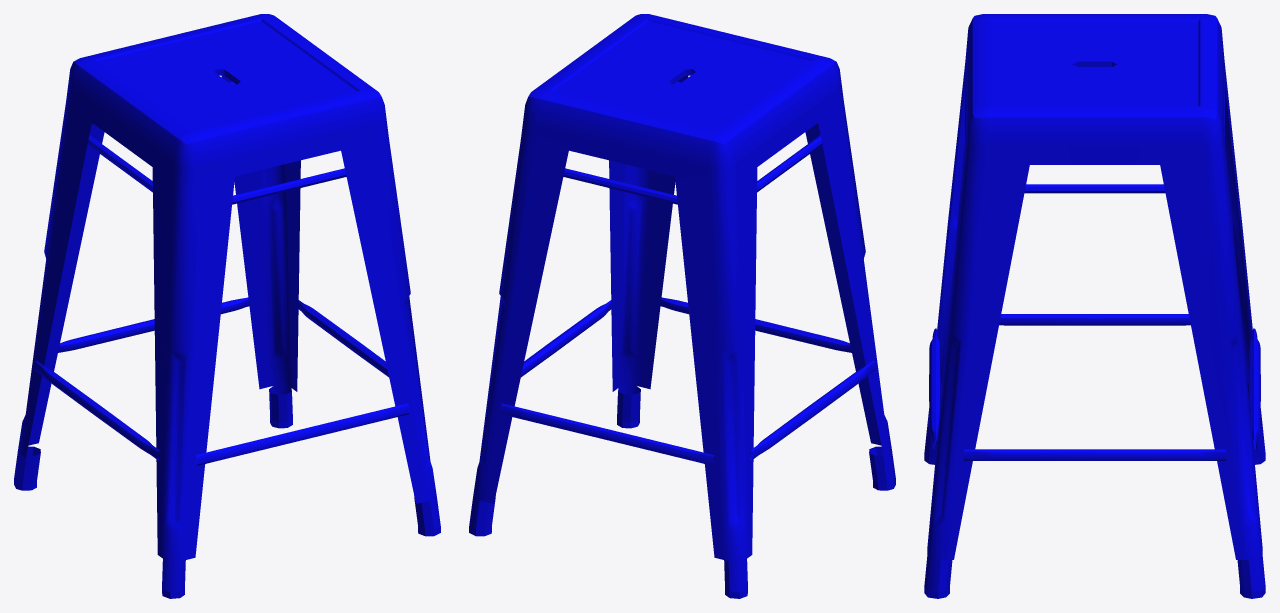
File: Industrial_Stool_Low.fbx
3 views of the same model, side by side, from view 1: azimuth 30°, elevation 25°; view 2: azimuth 150°, elevation 25°; view 3: azimuth 270°, elevation 25° (orthographic). The views are drawn at different scales.
Visible parts, largest first — view 1: SM_Stool_2_Low; view 2: SM_Stool_2_Low; view 3: SM_Stool_2_Low.
Part boxes in pixels (x1,y1,x2,y2): SM_Stool_2_Low: (14,14,440,598); SM_Stool_2_Low: (469,14,895,598); SM_Stool_2_Low: (924,14,1265,598).
Size of the model in its own units: 48.91 by 73.39 by 48.89.
